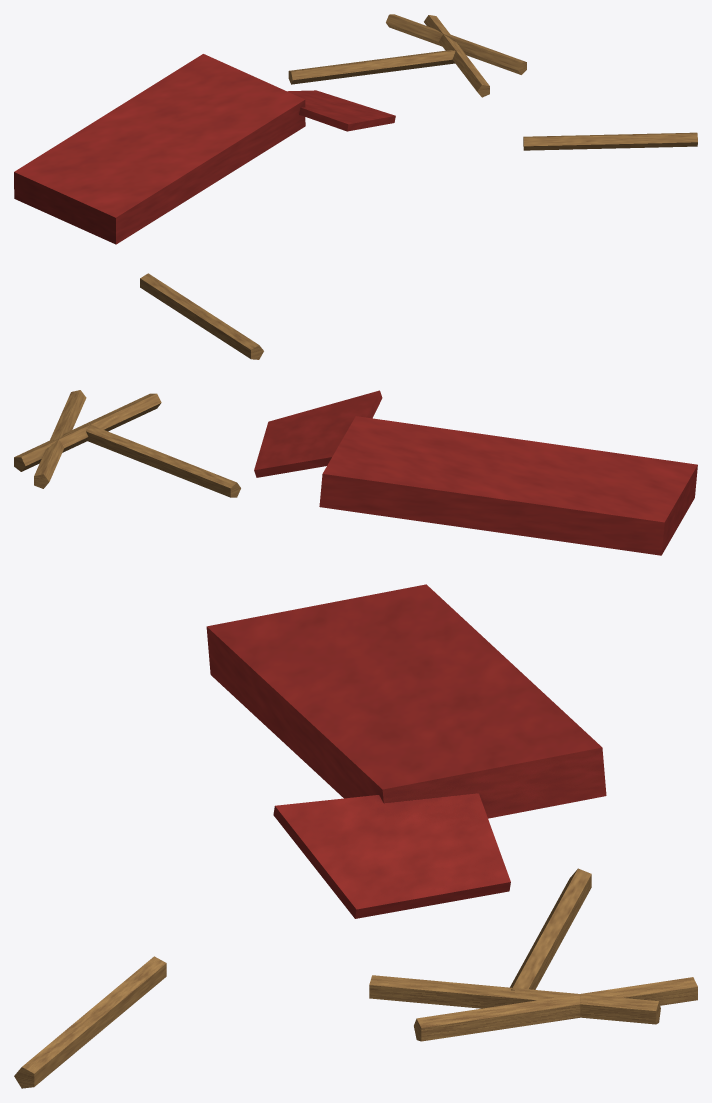
Rendered from trace_texas.glb.
3 renders of one model, top to bottom at view 1: azimuth 30°, elevation 25°; view 2: azimuth 150°, elevation 25°; view 3: azimuth 270°, elevation 25°, orthographic. The views are drawn at different scales.
Visible parts, largest first — view 1: trace_texas; view 2: trace_texas; view 3: trace_texas.
Part boxes in pixels (x1,y1,x2,y2): trace_texas: (14, 14, 697, 244); trace_texas: (14, 273, 697, 555); trace_texas: (14, 584, 697, 1088).
Bounding box in the file's own units: 0.5262 × 0.0498 × 0.3263.
2 materials, 2 textured.
